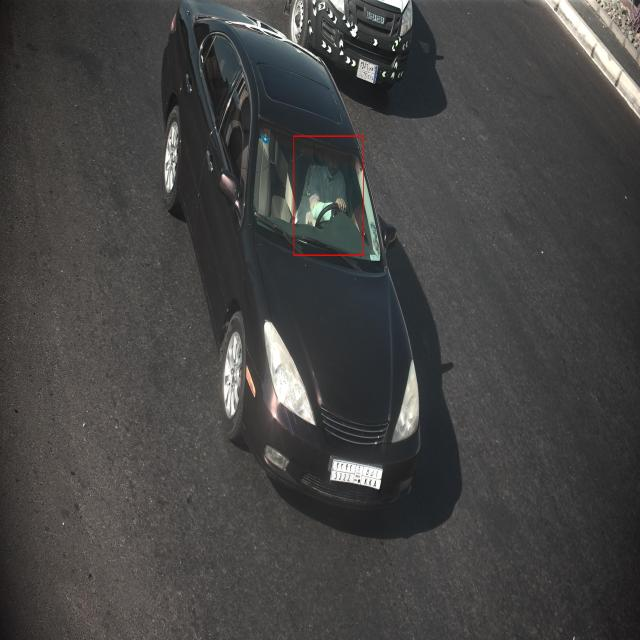windshield: (252, 111, 388, 283)
